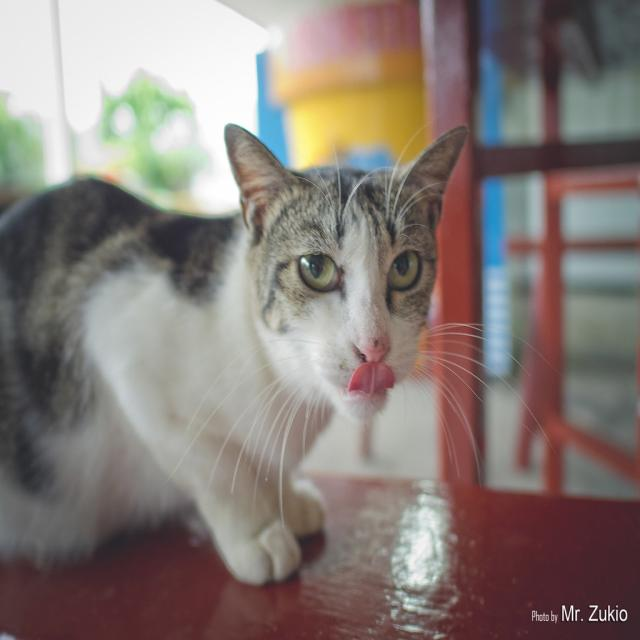Cat: (0, 116, 564, 585)
